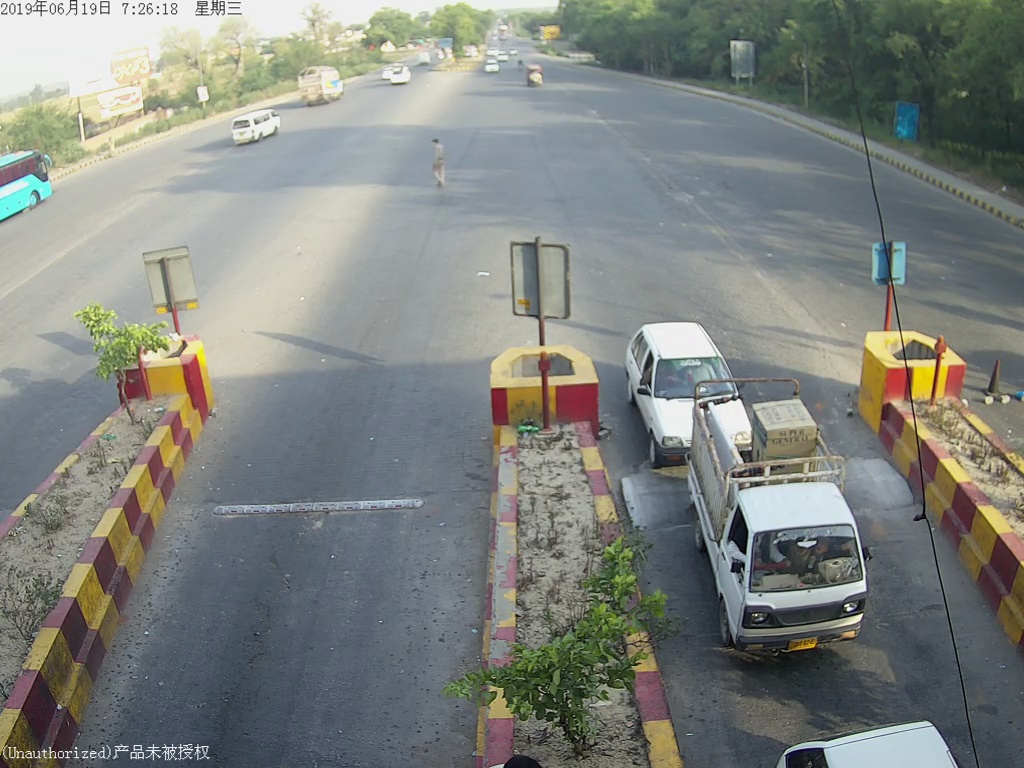Cat-1: (693, 391, 881, 674), (631, 326, 741, 374)
